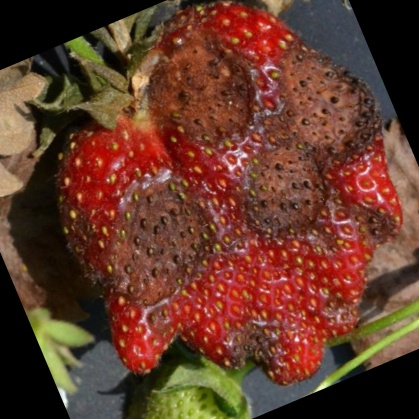Anthracnose_FR: (64, 14, 409, 397)
